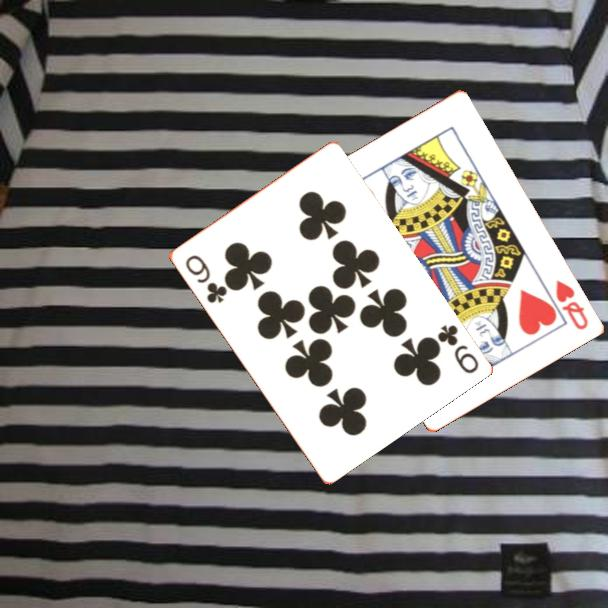c09: (181, 251, 230, 306), (433, 321, 481, 377)
h12: (551, 276, 591, 333)
